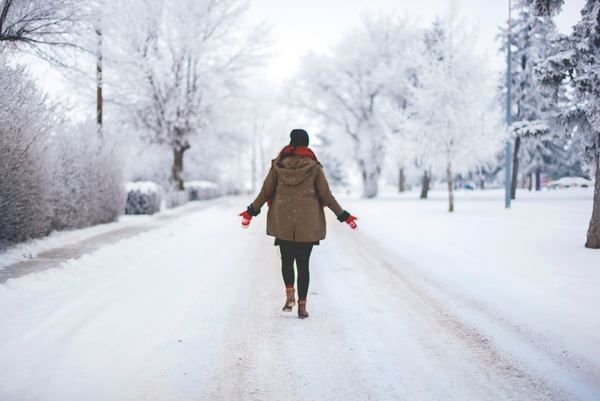Person: (237, 124, 363, 319)
